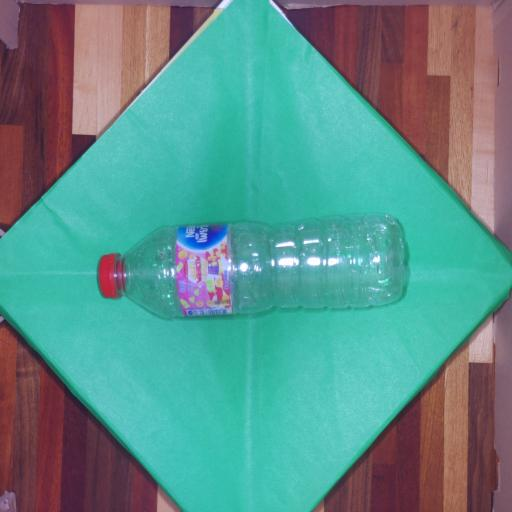bottle: (91, 186, 422, 334)
